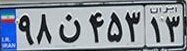character: (57, 12, 84, 46), (123, 7, 145, 44), (35, 9, 55, 48), (105, 7, 124, 47), (87, 7, 106, 45), (16, 12, 35, 48), (165, 14, 182, 43), (148, 15, 164, 44)
